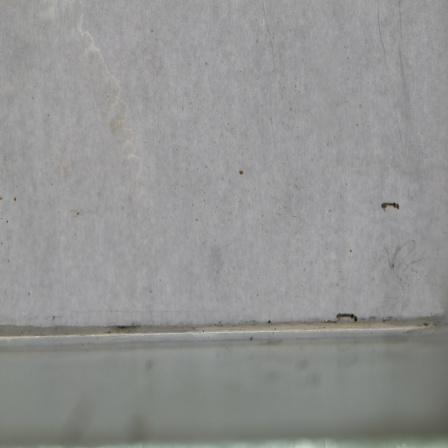Jentik-Nyamuk: (332, 308, 360, 328), (377, 198, 403, 216)
